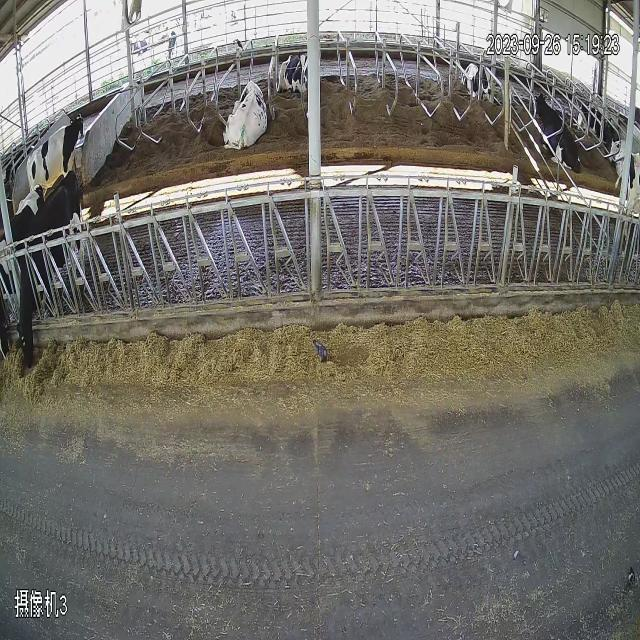lying down: (222, 69, 274, 177), (459, 40, 502, 130), (276, 39, 315, 114)
standing: (26, 106, 90, 176)
